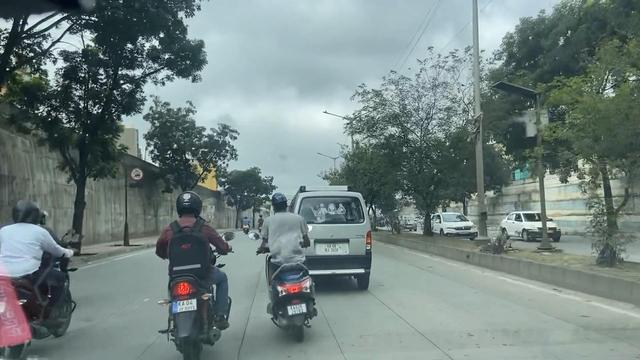LMV: (149, 184, 231, 359), (248, 189, 328, 342), (3, 204, 82, 357), (293, 176, 376, 299)
